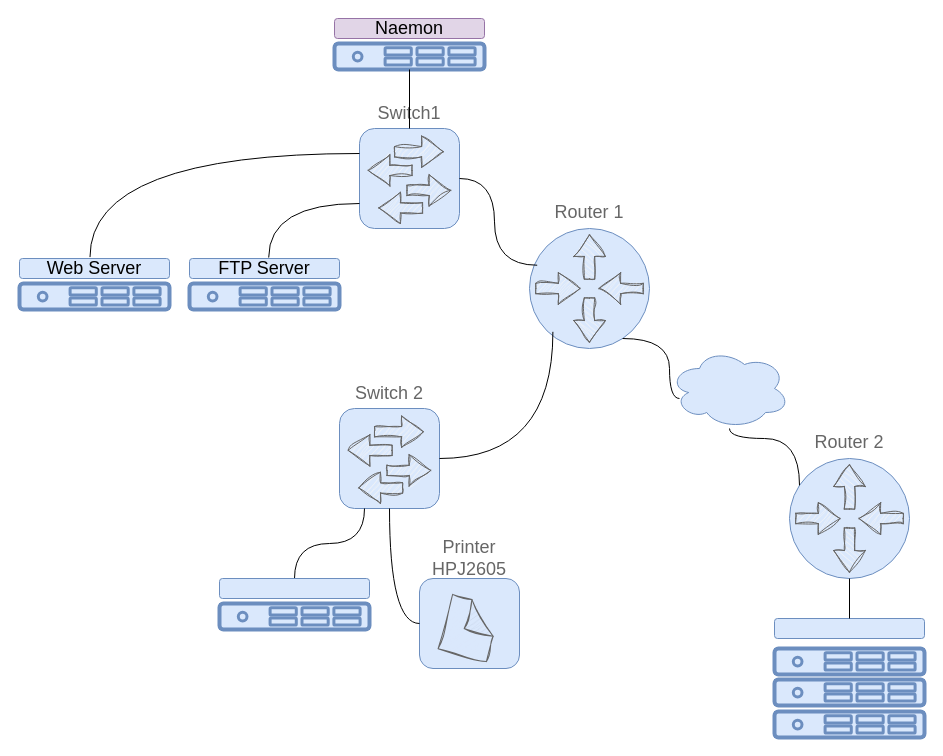
This 943x756 diagram has some shape labels left out. Each missing label, with the centre of its shape:
Internet: point 729,388
Lorem ipsum dolor consectetuer adipiscing elit. Aenel: point 469,627
somewebsite.com: point 849,628
Wkstn1: point 294,588
